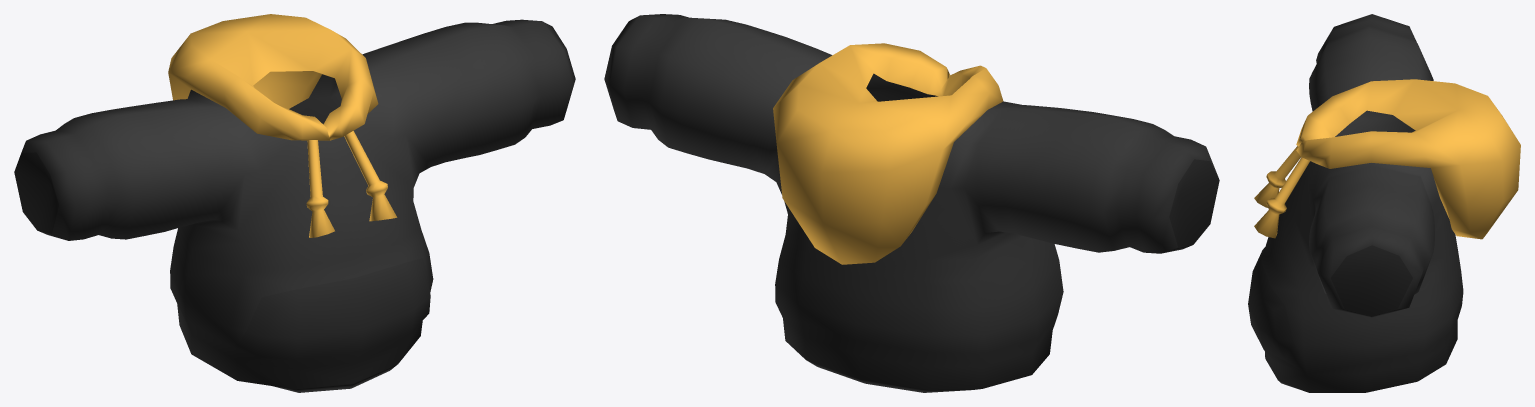
File: Top_27.fbx
The picture shows the model from 3 angles, left to right: view 1: azimuth 30°, elevation 25°; view 2: azimuth 150°, elevation 25°; view 3: azimuth 270°, elevation 25°; orthographic projection. The views are drawn at different scales.
Parts seen in each view (by area): view 1: Top_27; view 2: Top_27; view 3: Top_27.
Boxes of the visible parts, x1=… form: Top_27: x1=14, y1=14, x2=575, y2=392; Top_27: x1=604, y1=14, x2=1219, y2=392; Top_27: x1=1248, y1=14, x2=1520, y2=392.
Size of the model in its own units: 99.63 by 52.57 by 50.2.
